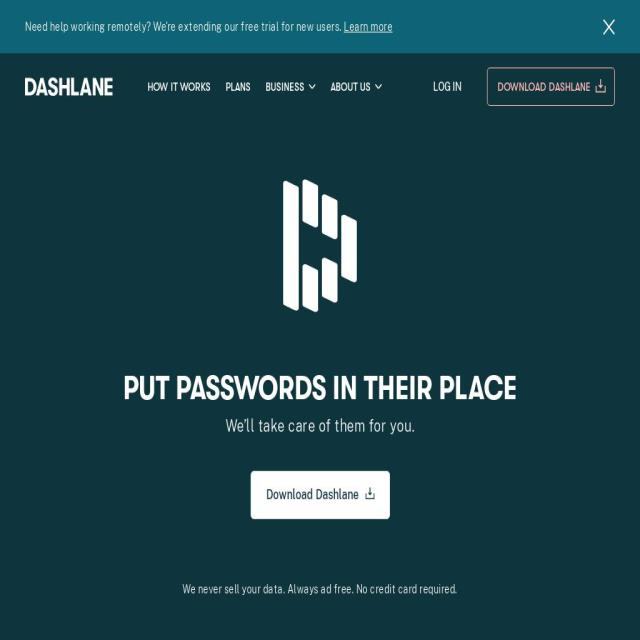button: (250, 464, 390, 526), (250, 471, 390, 519), (487, 67, 615, 106), (25, 76, 113, 96), (147, 76, 210, 96), (330, 76, 370, 96), (266, 76, 304, 96), (433, 76, 462, 96), (226, 76, 250, 96), (603, 16, 615, 36)
heading: (123, 370, 517, 408)
image: (25, 120, 615, 370)
link: (343, 20, 392, 33)
text: (182, 579, 458, 599), (225, 414, 415, 438), (25, 20, 344, 33)
